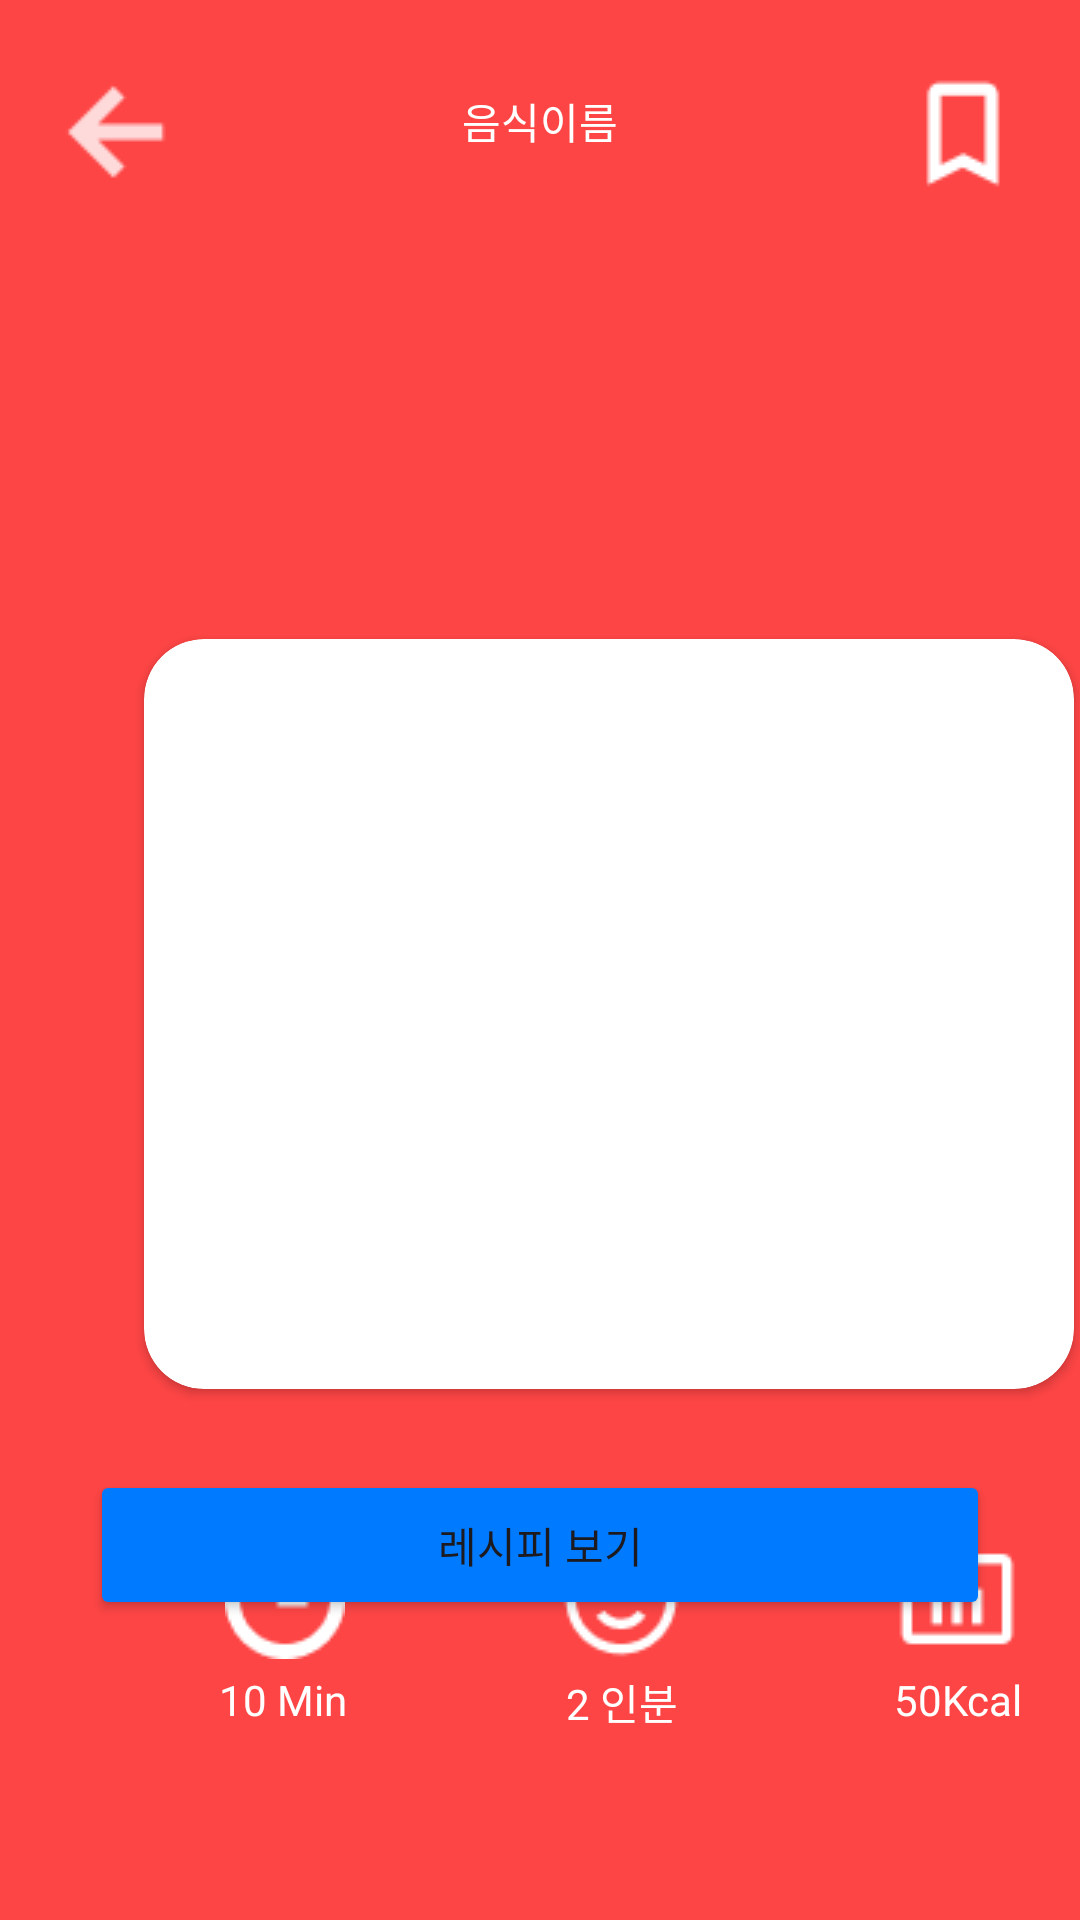

Named icons in this screenshot (1080px x 1920px) and their centers, (x=x, y=y):
back: (x=116, y=132)
book marks: (x=963, y=133)
